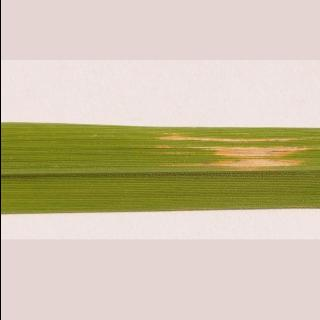Hawar-Daun: (141, 117, 320, 189)
